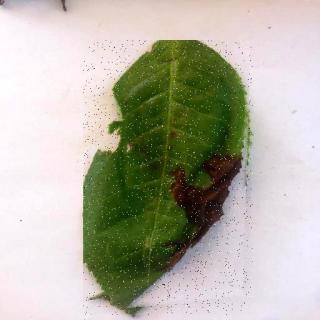Brown Blight: (84, 42, 254, 317)
